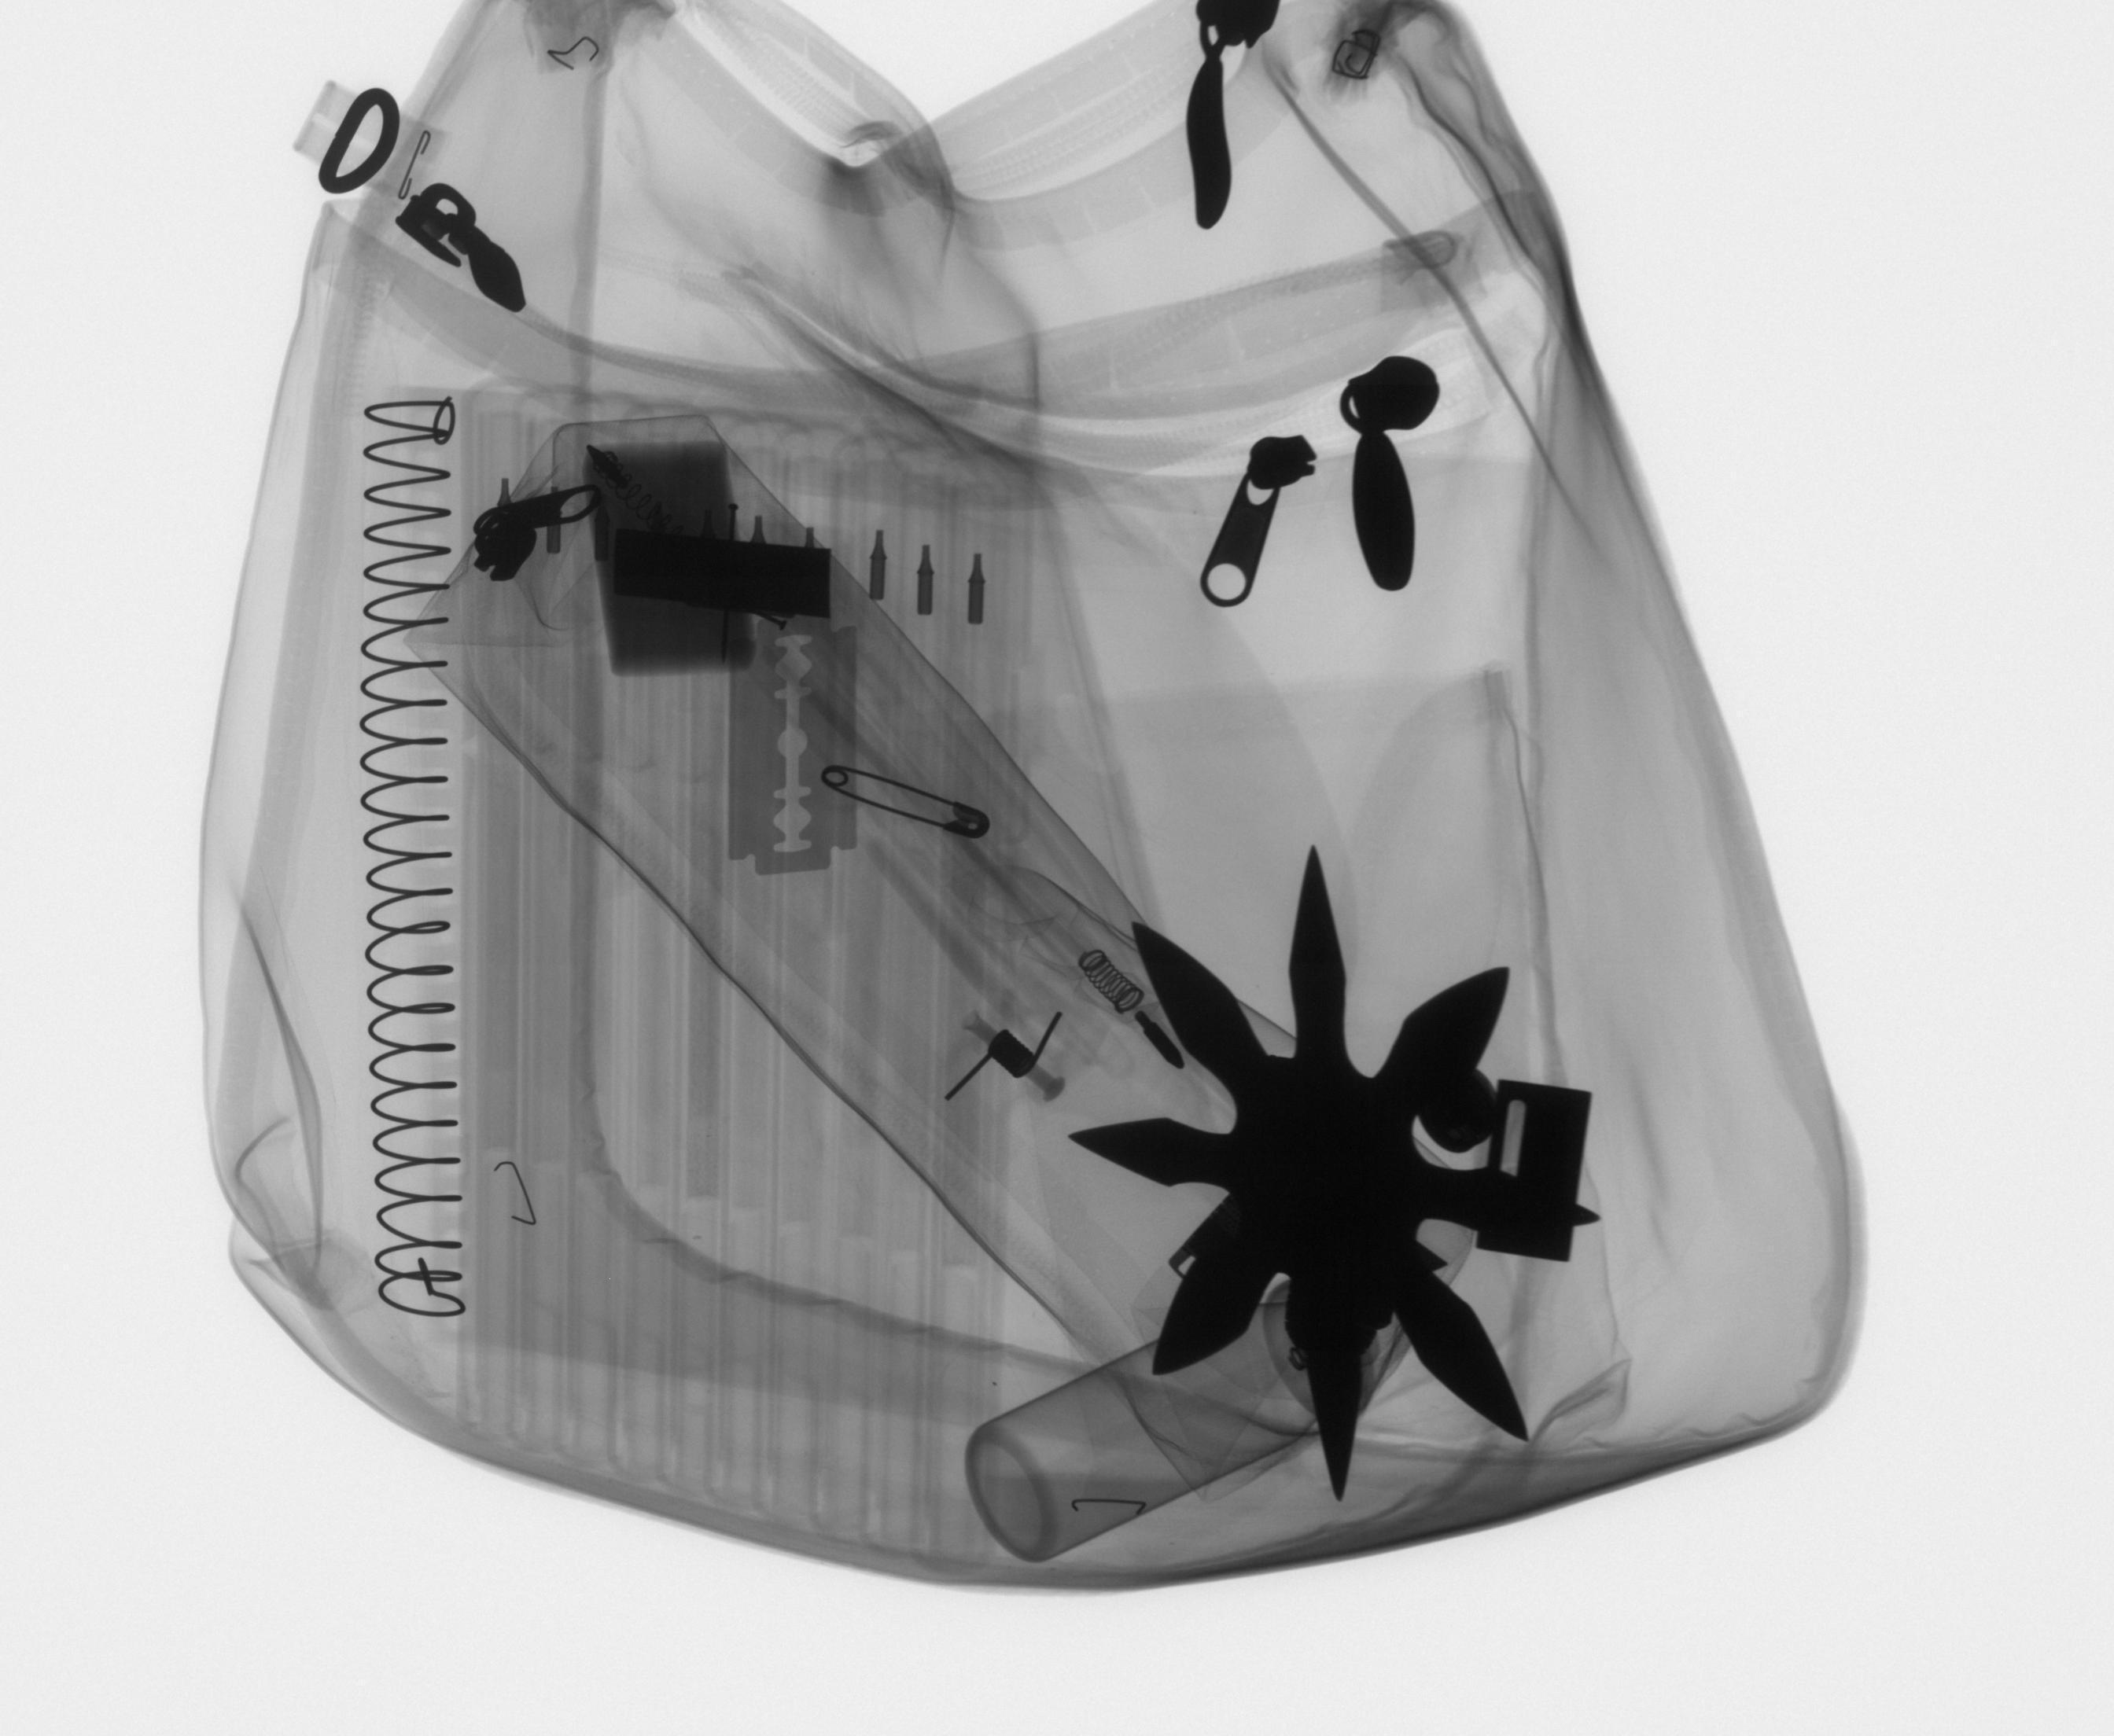RazorBlade: (720, 604, 864, 881)
Shuriken: (1059, 829, 1614, 1517)
